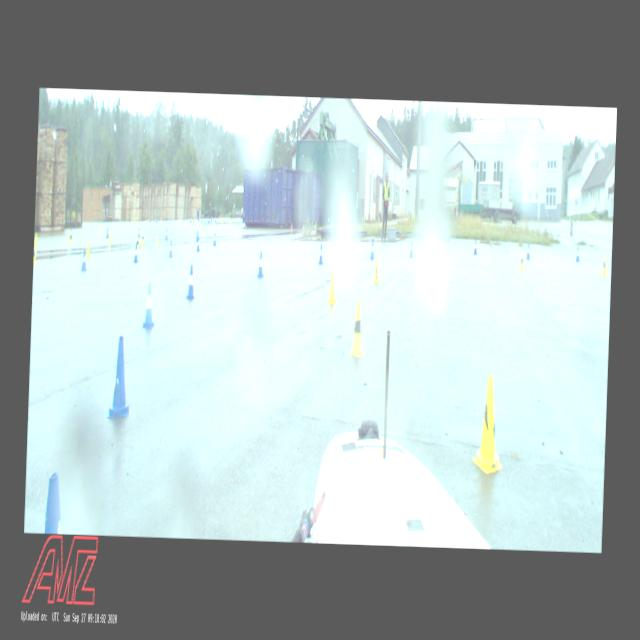blue_cone: (32, 472, 81, 534), (107, 337, 132, 418), (142, 282, 156, 328), (186, 264, 197, 299), (256, 251, 264, 278), (81, 249, 87, 270), (318, 243, 324, 263), (408, 240, 414, 258), (369, 238, 374, 258), (168, 240, 173, 257), (575, 246, 580, 262), (472, 238, 477, 254), (134, 242, 138, 262), (526, 242, 530, 259), (196, 236, 200, 250), (194, 230, 198, 240), (213, 232, 216, 245), (137, 226, 140, 238), (106, 227, 109, 238), (165, 228, 167, 239), (70, 227, 72, 238)
yellow_cone: (471, 374, 505, 473), (349, 300, 367, 356), (328, 268, 338, 304), (373, 256, 380, 284), (600, 257, 607, 275), (518, 252, 524, 272), (86, 242, 90, 258), (32, 248, 36, 264), (34, 232, 38, 247), (136, 236, 139, 251), (154, 234, 158, 245), (141, 232, 144, 245), (108, 230, 111, 242), (68, 232, 71, 242)
